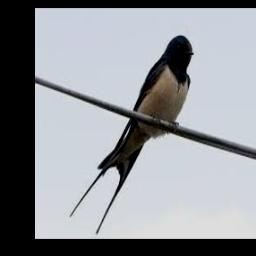Swallow: (70, 35, 194, 233)
